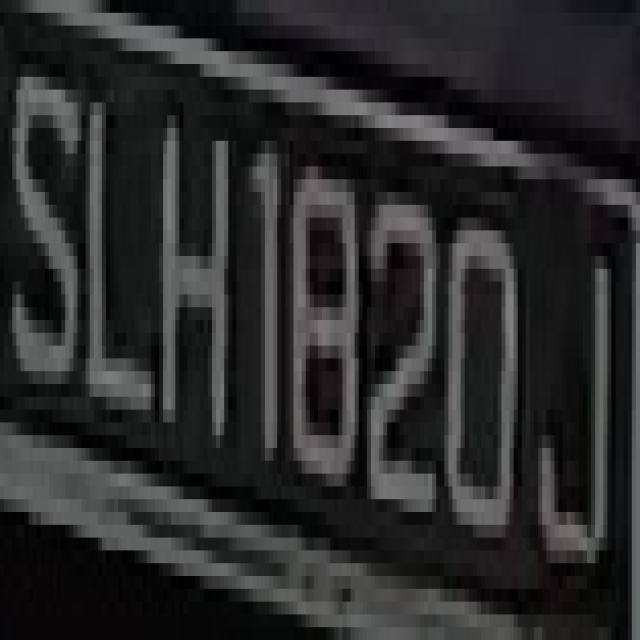0: (440, 179, 522, 602)
1: (244, 102, 286, 512)
2: (346, 141, 441, 525)
8: (289, 102, 359, 550)
H: (155, 51, 236, 486)
J: (530, 179, 620, 576)
L: (86, 51, 159, 499)
S: (12, 12, 86, 410)
